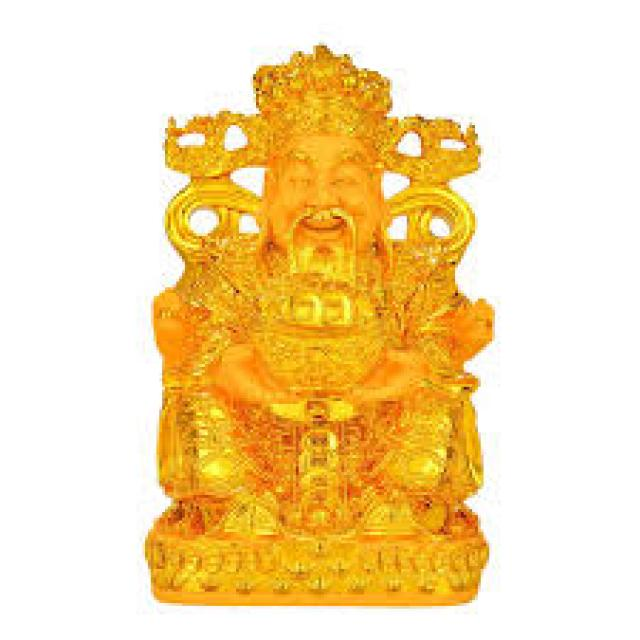Cai shen: (163, 44, 466, 487)
